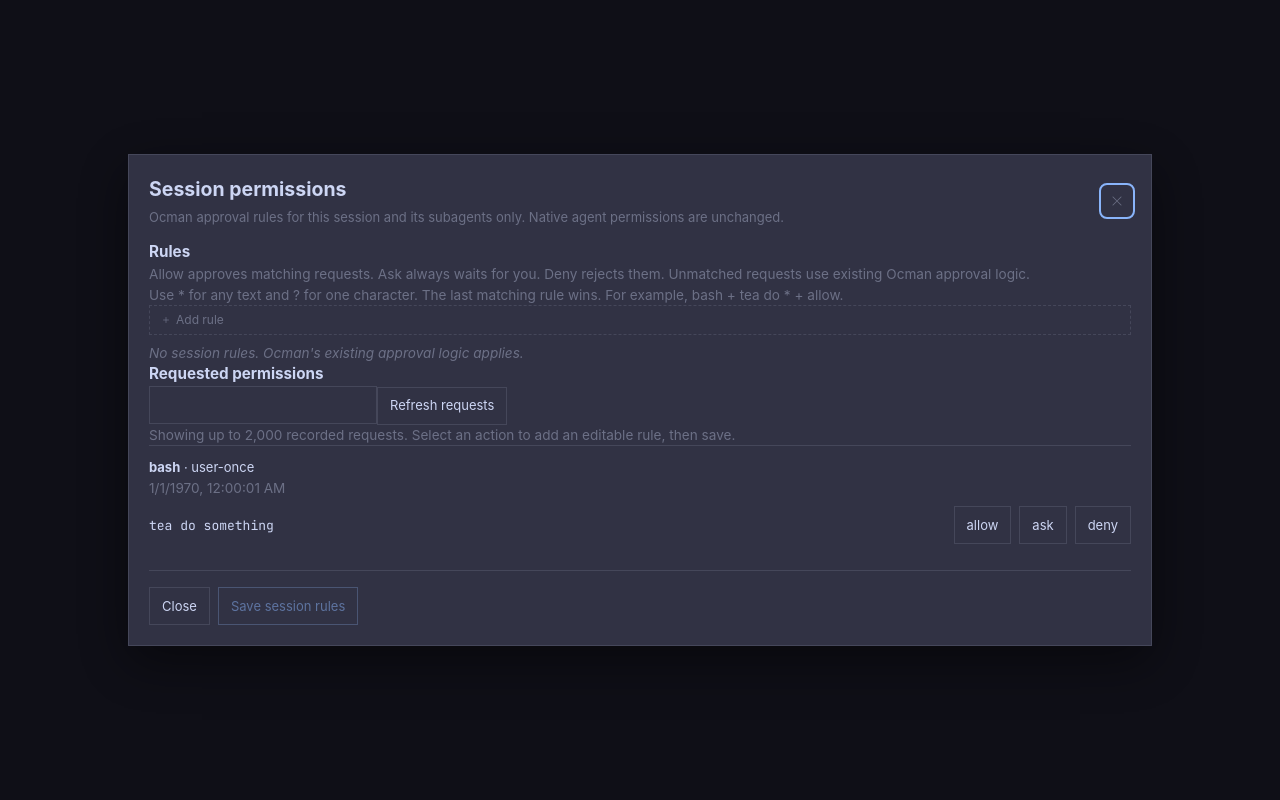
opens from the command and saves an editable wildcard rule for the current owner
Expected: the text "tea do something" is shown, 149,516 -> 274,535
Click the button "allow" at coordinates (982, 525), box 954,506 -> 1011,544
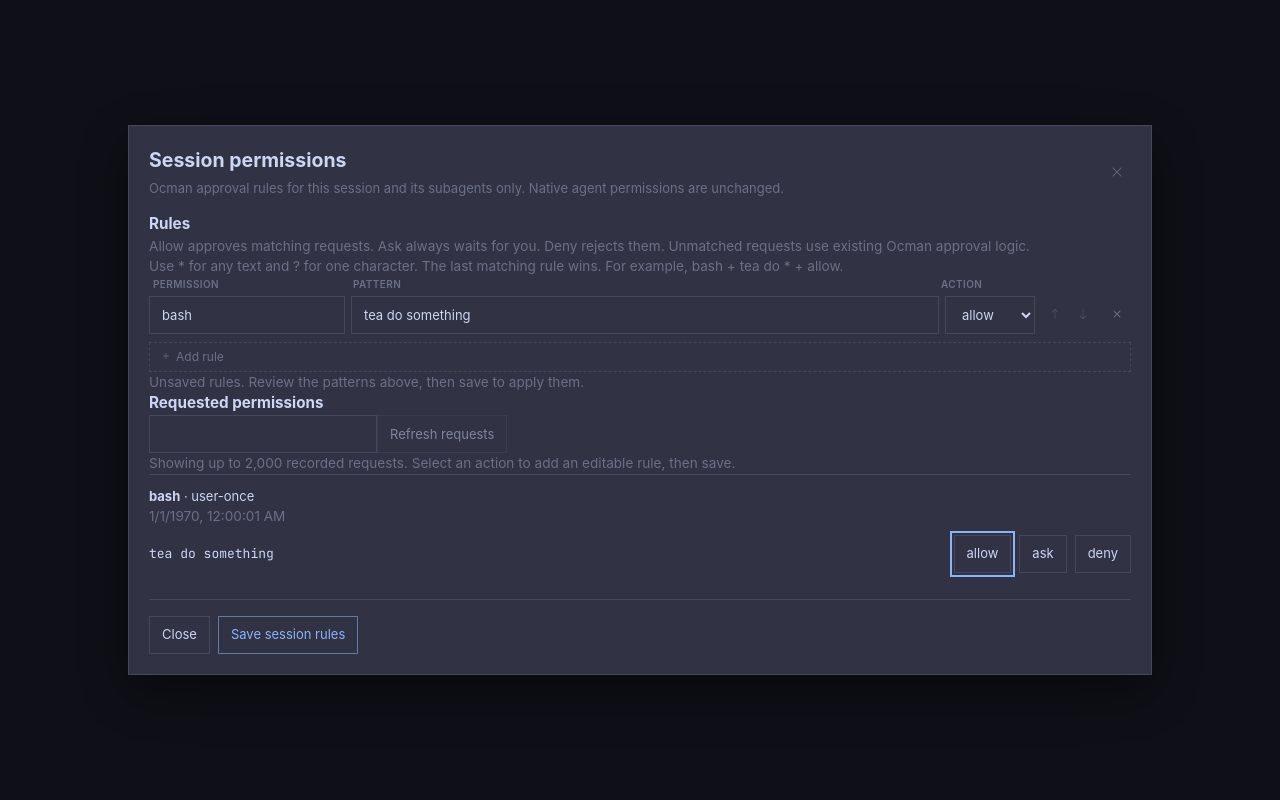
Clear the field named "Rule 1 pattern" at coordinates (645, 314), box 351,296 -> 939,334
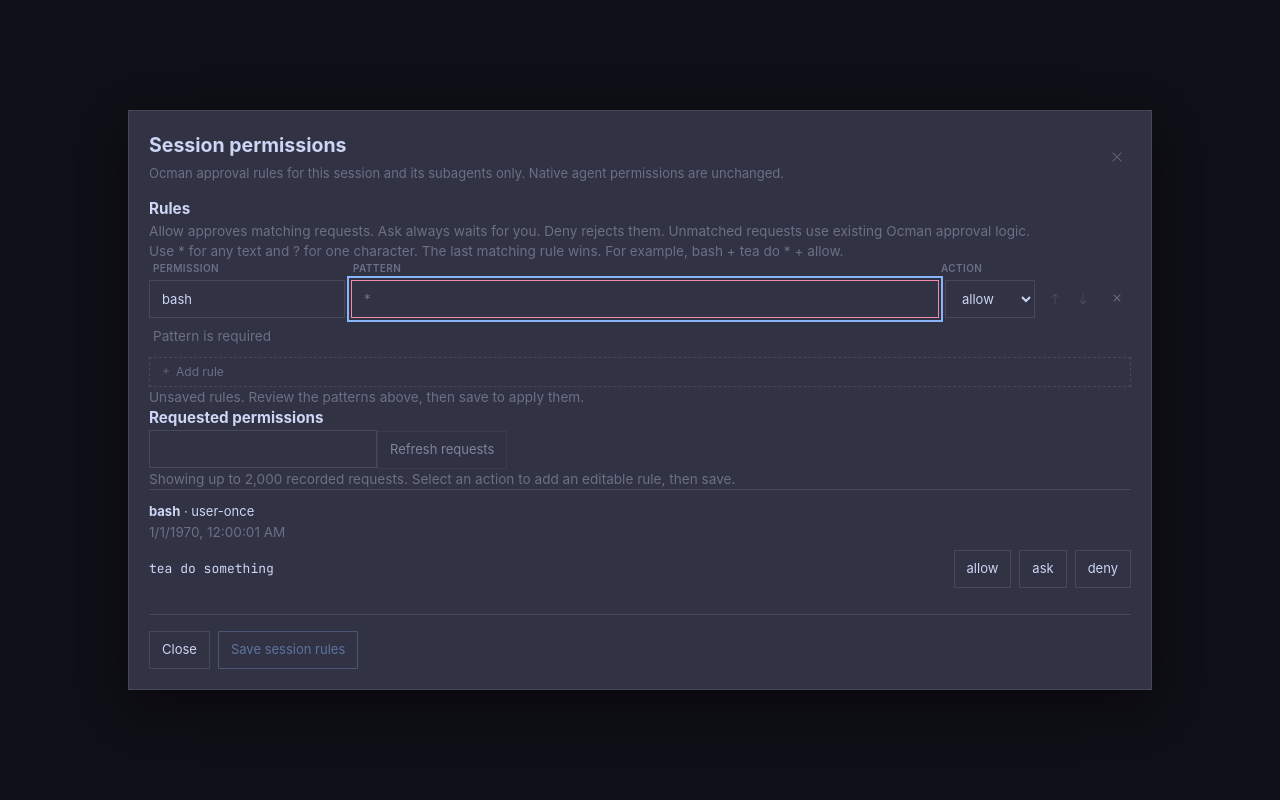
Type "tea do *" into the field named "Rule 1 pattern" at coordinates (645, 299), box 351,280 -> 939,318
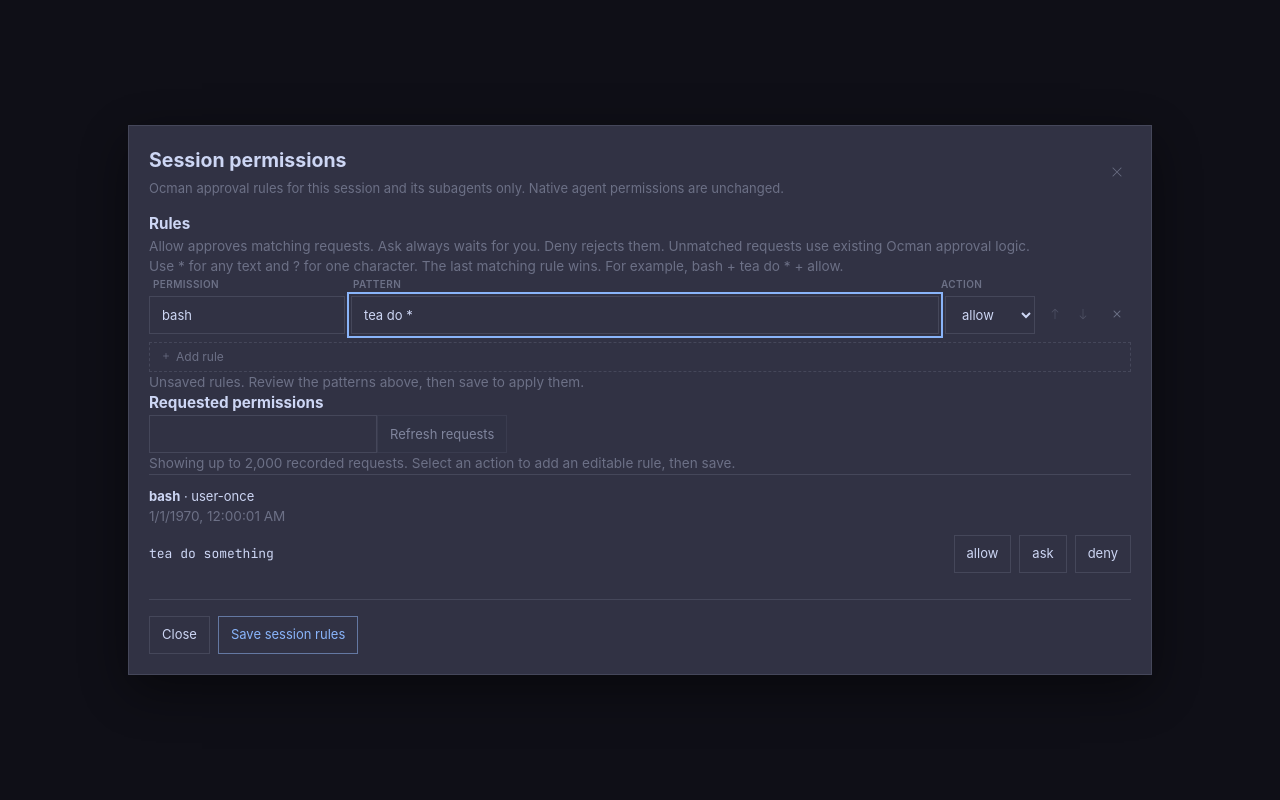
Click the button "Save session rules" at coordinates (288, 635), box 218,616 -> 358,654
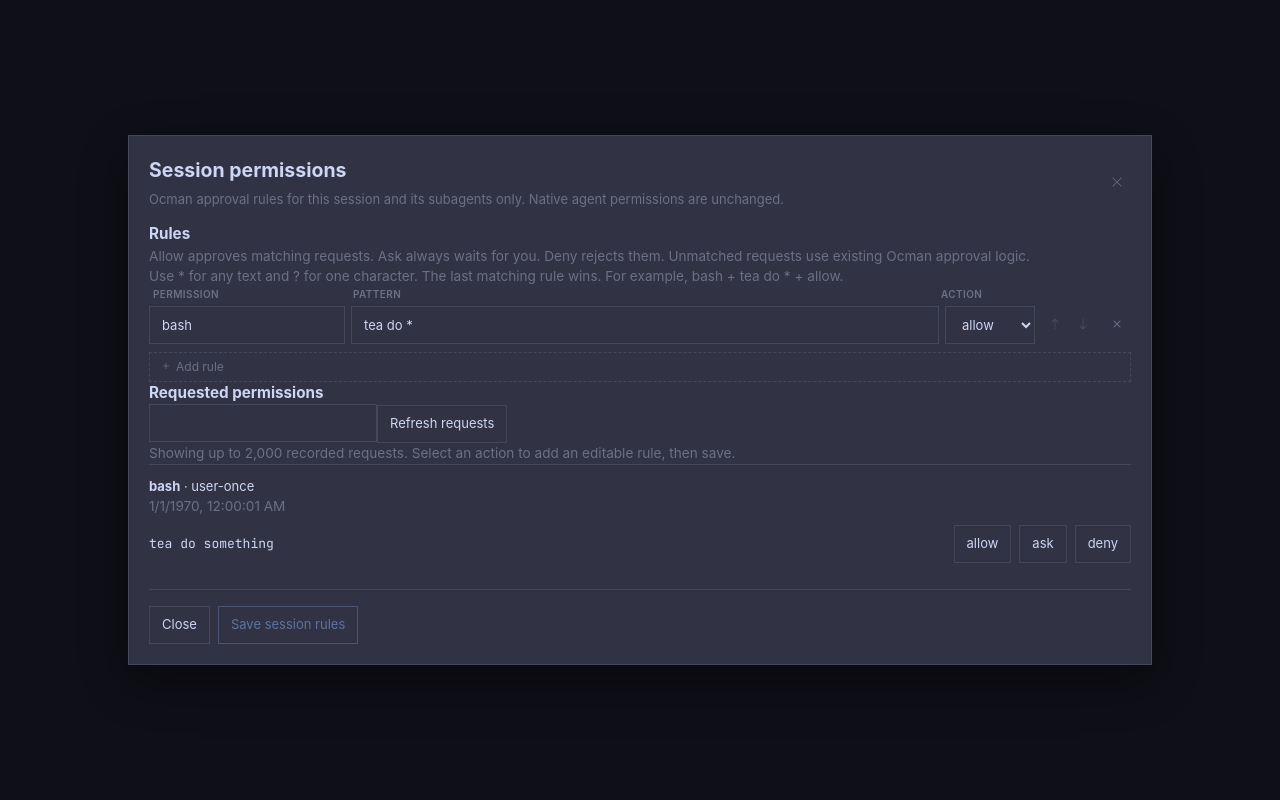
Result: the button "Save session rules" is disabled at 218,606 -> 358,644
